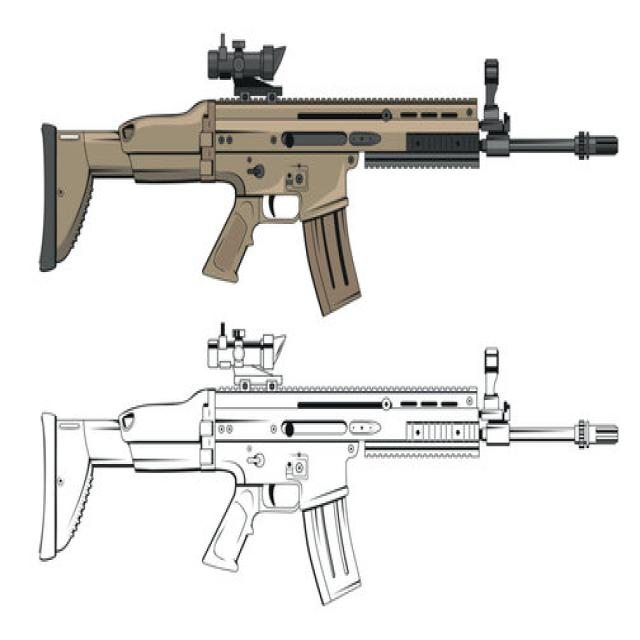Gun: (16, 12, 620, 321), (24, 320, 621, 622)
